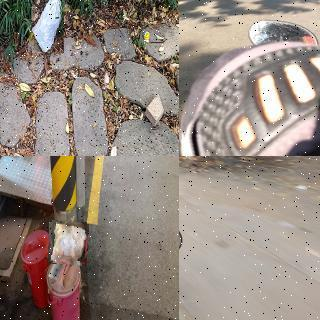Garbage: (30, 0, 65, 53), (48, 221, 88, 265)
